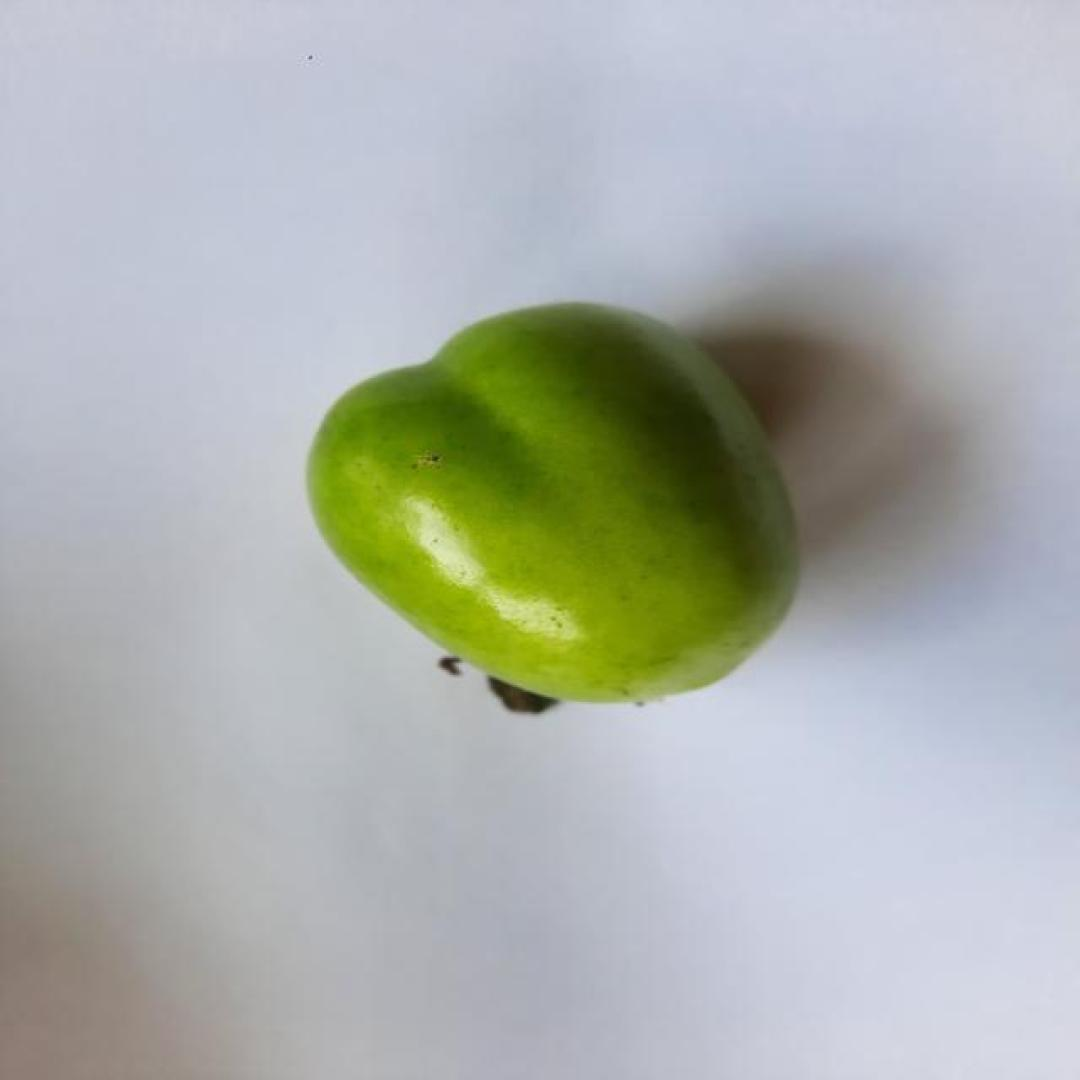mentah: (304, 302, 802, 705)
